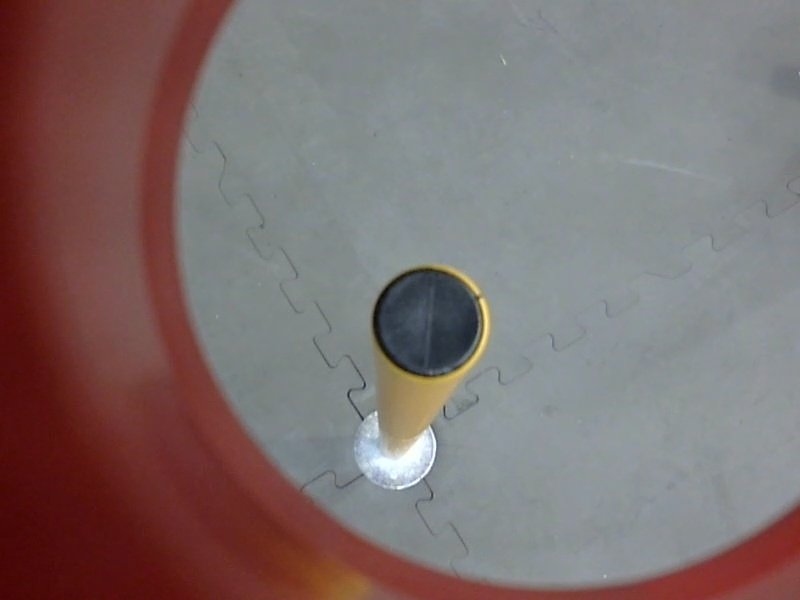tip: (367, 259, 494, 385)
